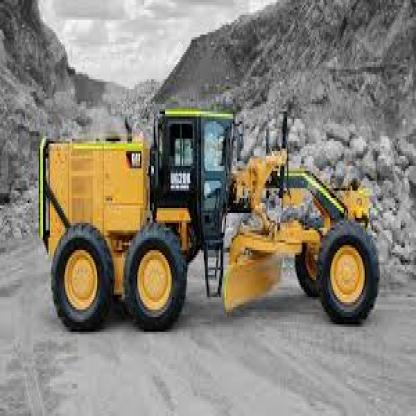bull_dozer/loader/grader: (27, 74, 378, 349)
